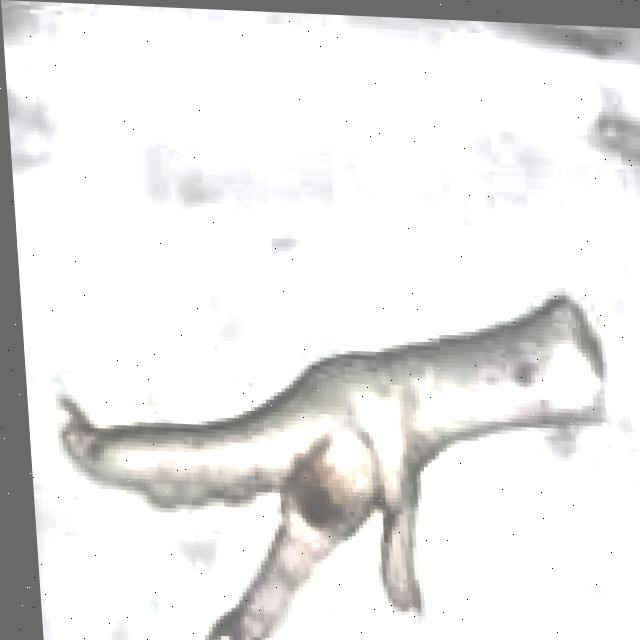Bumble foot: (39, 272, 625, 640)
